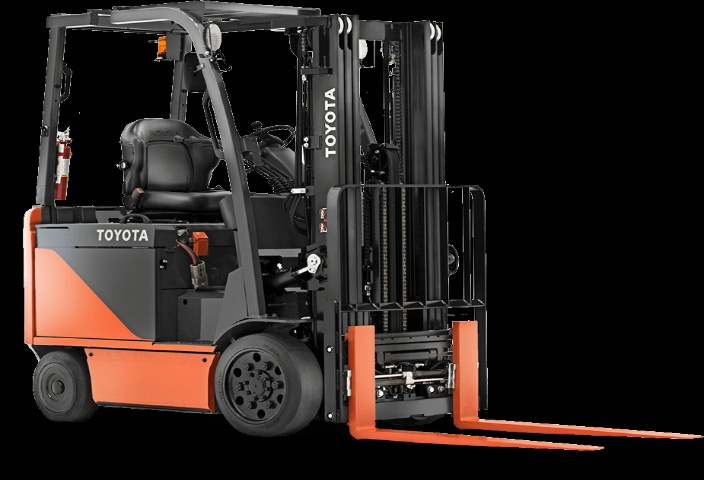industrial: (10, 3, 704, 469)
